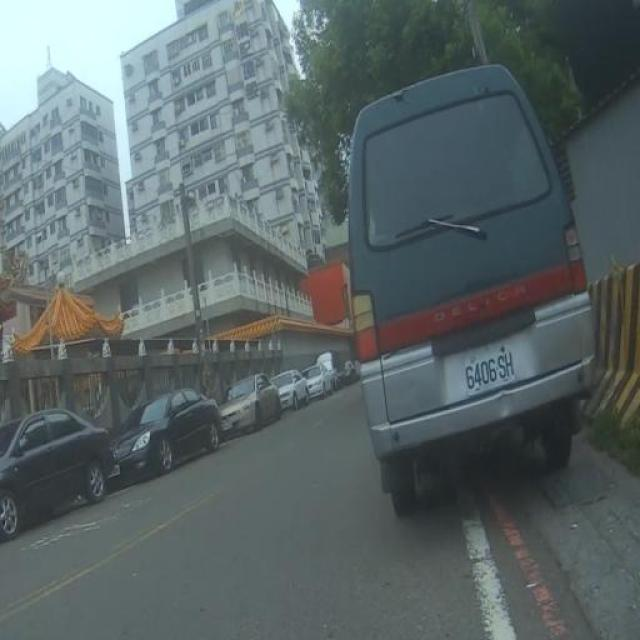Legalparking: (334, 56, 614, 532), (1, 344, 339, 525)
